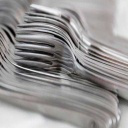fork: (18, 4, 128, 114)
